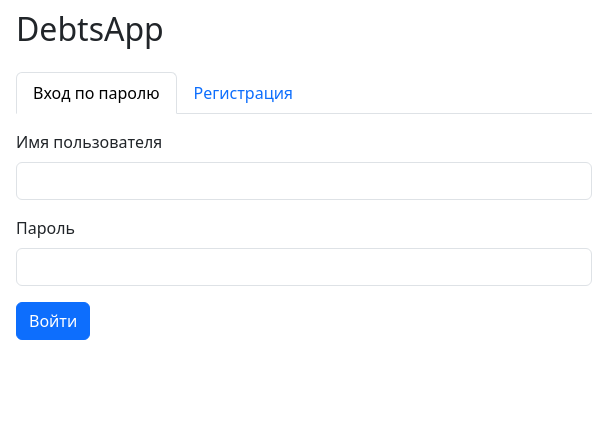
Login page › shows error on login failure
Type "user1" into the field labelled "Имя пользователя".
click(304, 181); type("user1")  # box [16,162,592,200]
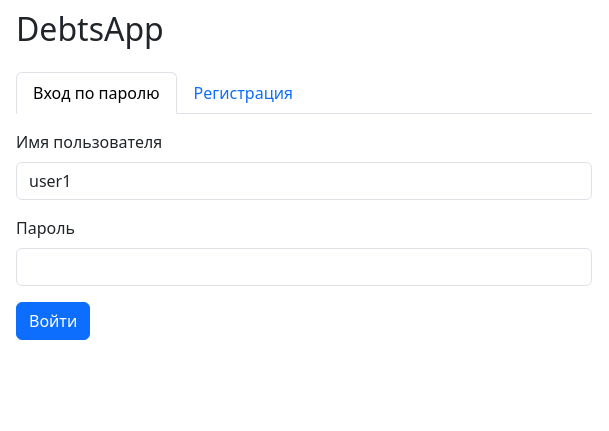
Type "wrong" into the password field labelled "Пароль".
click(304, 267); type("wrong")  # box [16,248,592,286]
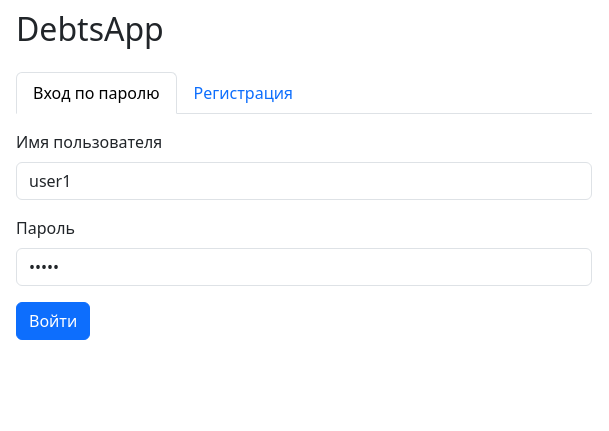
Click the button "Войти".
click(53, 321)  # box [16,302,90,340]
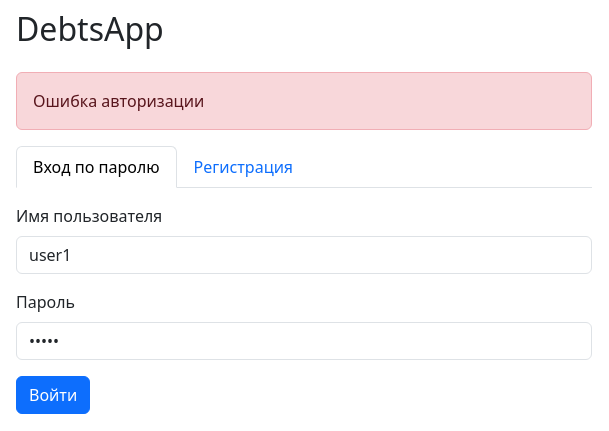
Now the text "Ошибка авторизации" is shown, box [16,72,592,130]
